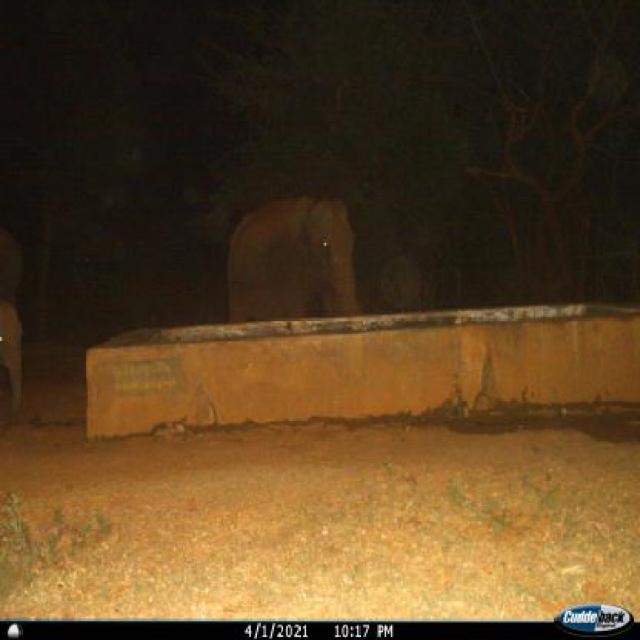Elephant: (201, 195, 364, 363)
